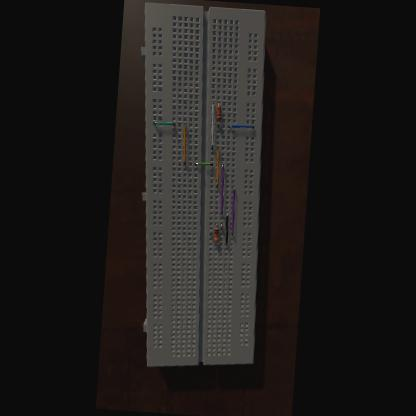breadboard: (120, 2, 279, 373)
resistor: (216, 104, 222, 120), (214, 226, 220, 240)
wire: (229, 186, 237, 234), (219, 164, 226, 214), (209, 102, 216, 148), (214, 148, 222, 188), (182, 124, 189, 164), (225, 212, 230, 244), (230, 123, 254, 129), (154, 121, 176, 126), (196, 162, 212, 166), (221, 223, 223, 229), (218, 121, 220, 126), (211, 228, 212, 234), (216, 223, 218, 226), (219, 102, 220, 104), (216, 242, 217, 244)
